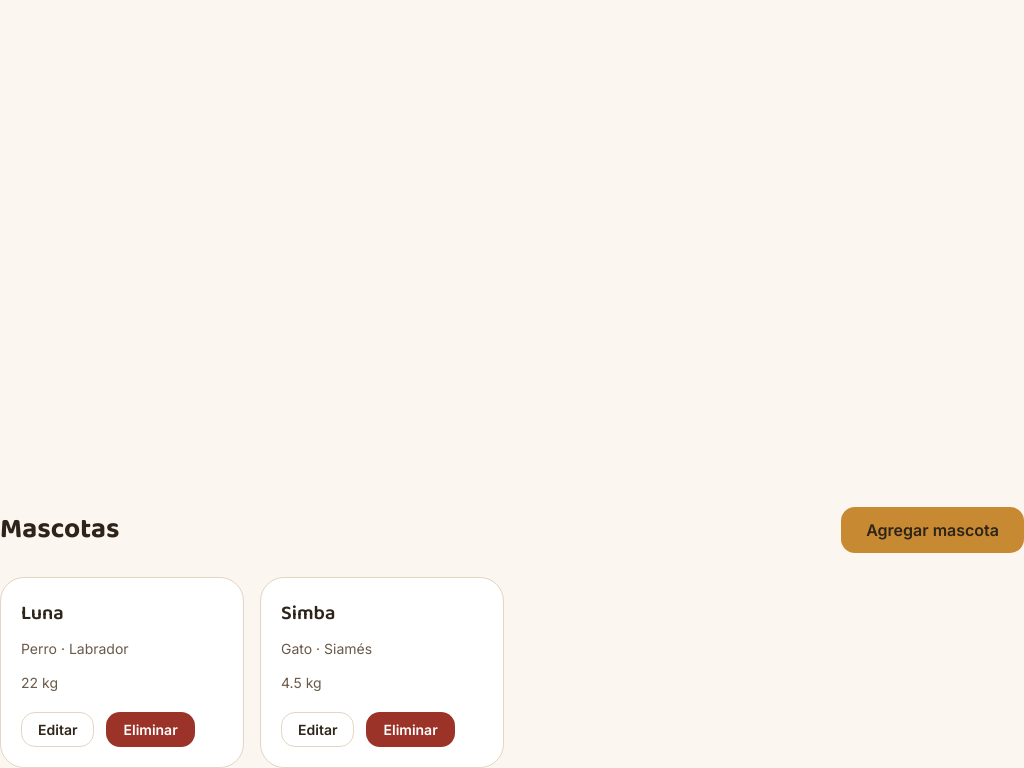
Scenario: MascotasPage › agrega una mascota nueva y la muestra en la lista
The width and height of the screenshot is (1024, 768).
(page scrolled)
Step 1. Click the button "Agregar mascota" → (933, 530), box x1=841 y1=507 x2=1023 y2=553
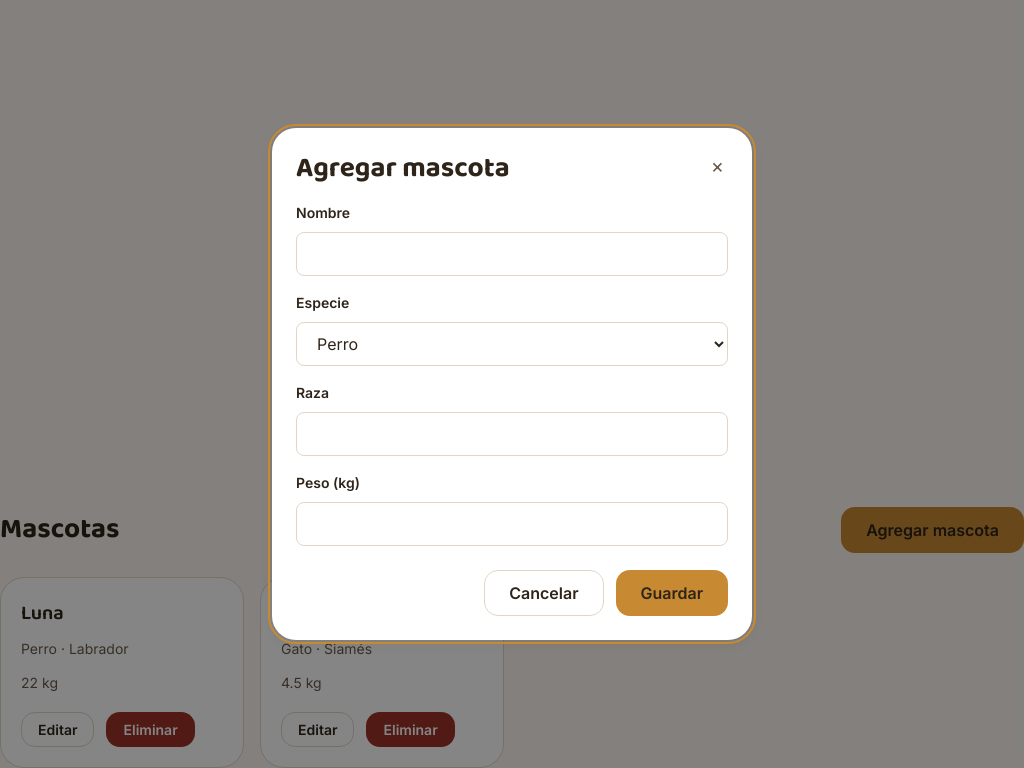
Step 2. Type "Rocky" into the field labelled "Nombre" → (512, 254), box x1=296 y1=232 x2=728 y2=276
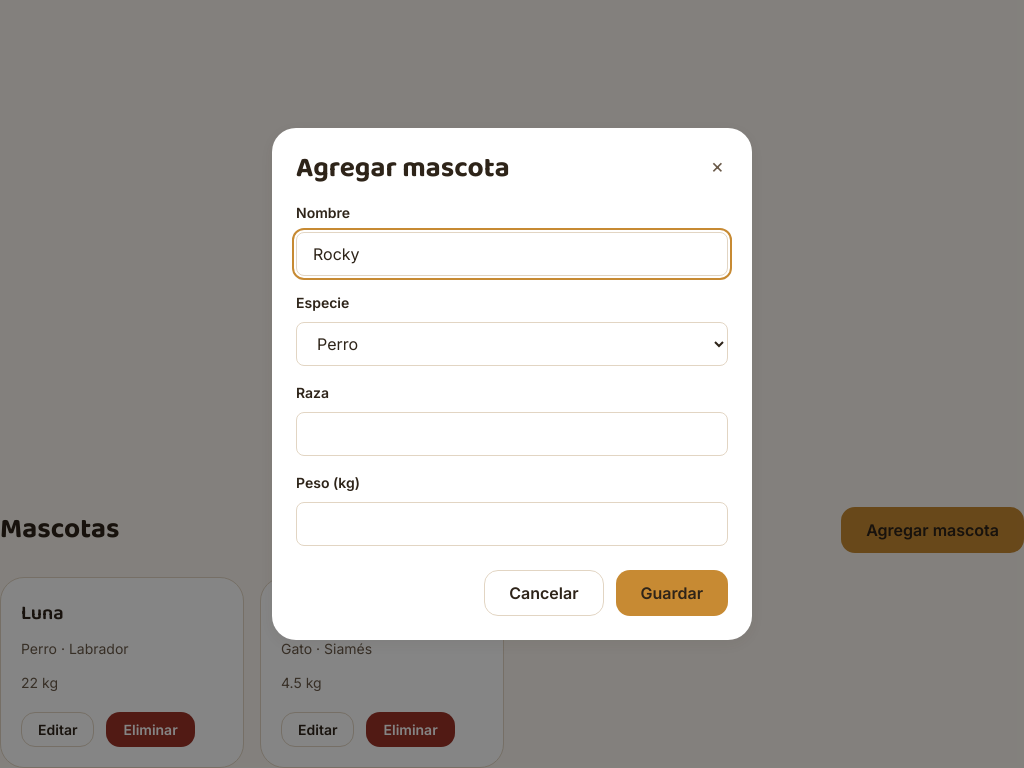
Step 3. Select "Perro" in the dropdown labelled "Especie" → (512, 344), box x1=296 y1=322 x2=728 y2=366
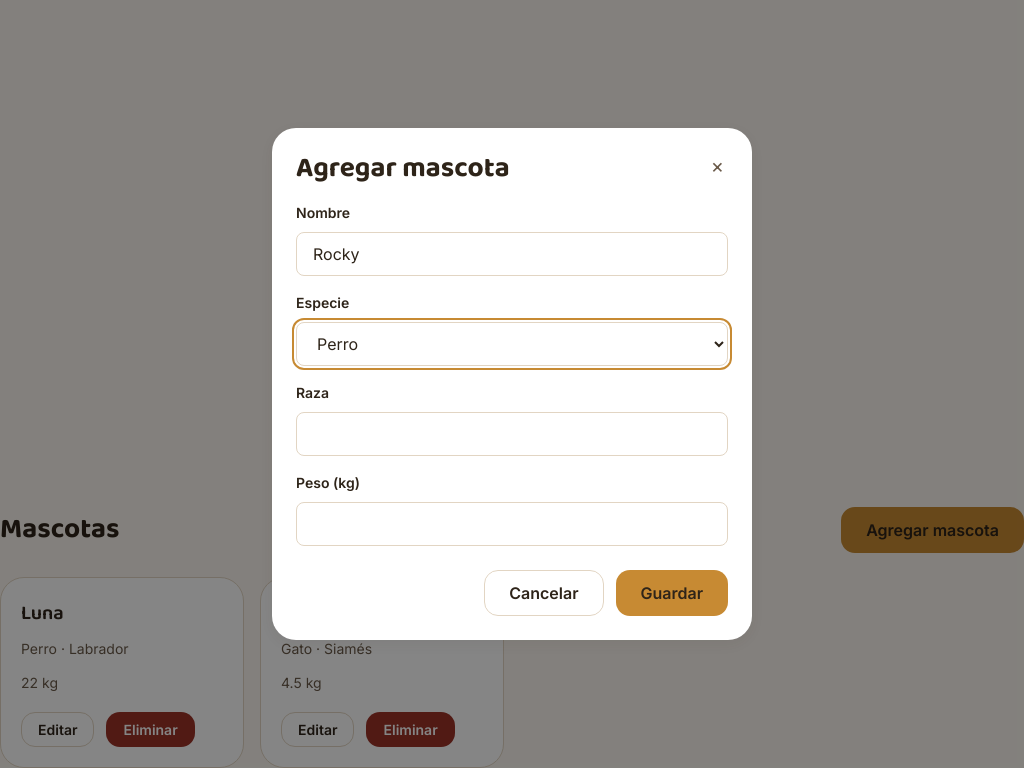
Step 4. Type "Bulldog" into the field labelled "Raza" → (512, 434), box x1=296 y1=412 x2=728 y2=456
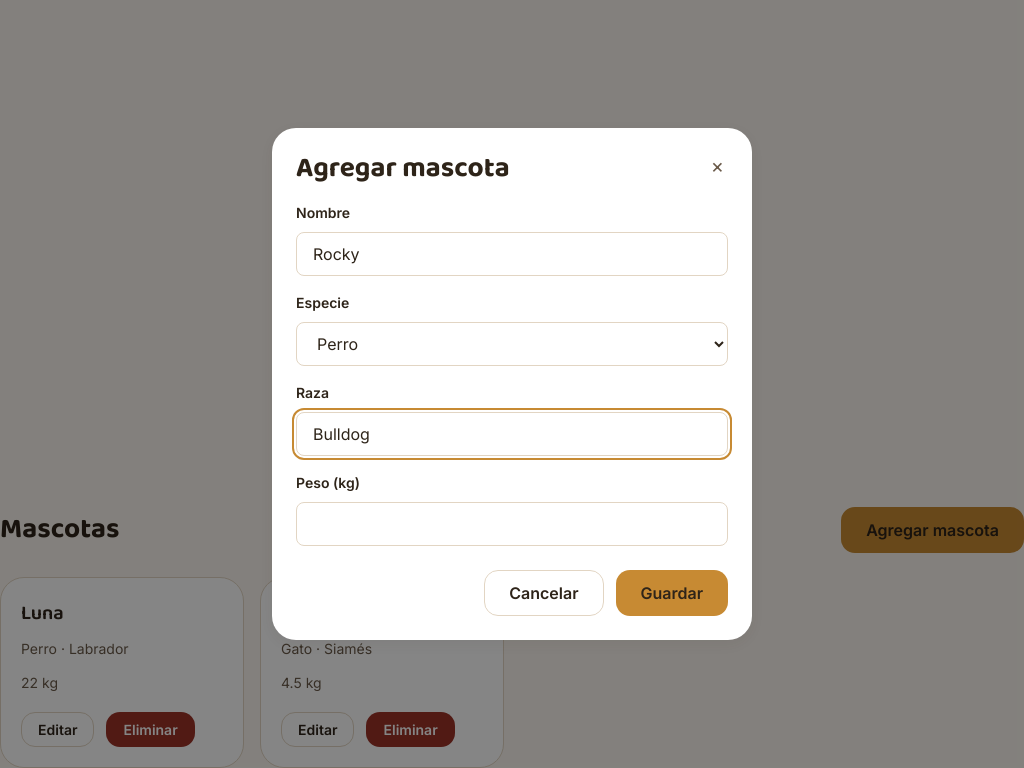
Step 5. Type "18" into the number field labelled "Peso (kg)" → (512, 524), box x1=296 y1=502 x2=728 y2=546
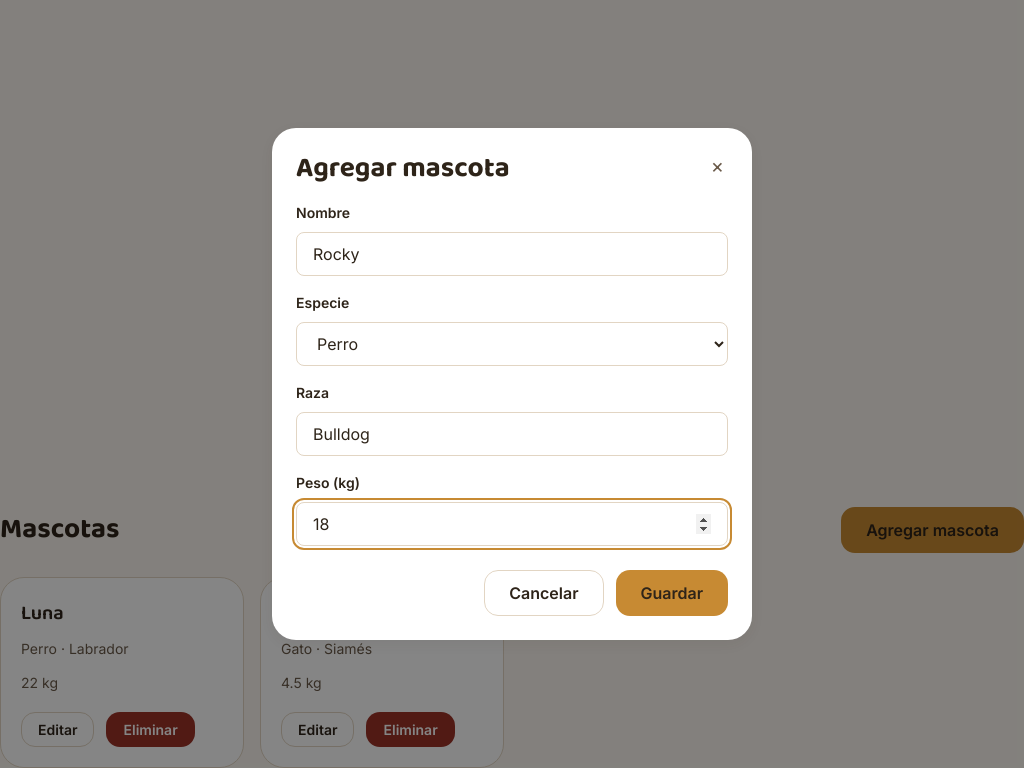
Step 6. Click the button "Guardar" → (672, 593), box x1=616 y1=570 x2=728 y2=616
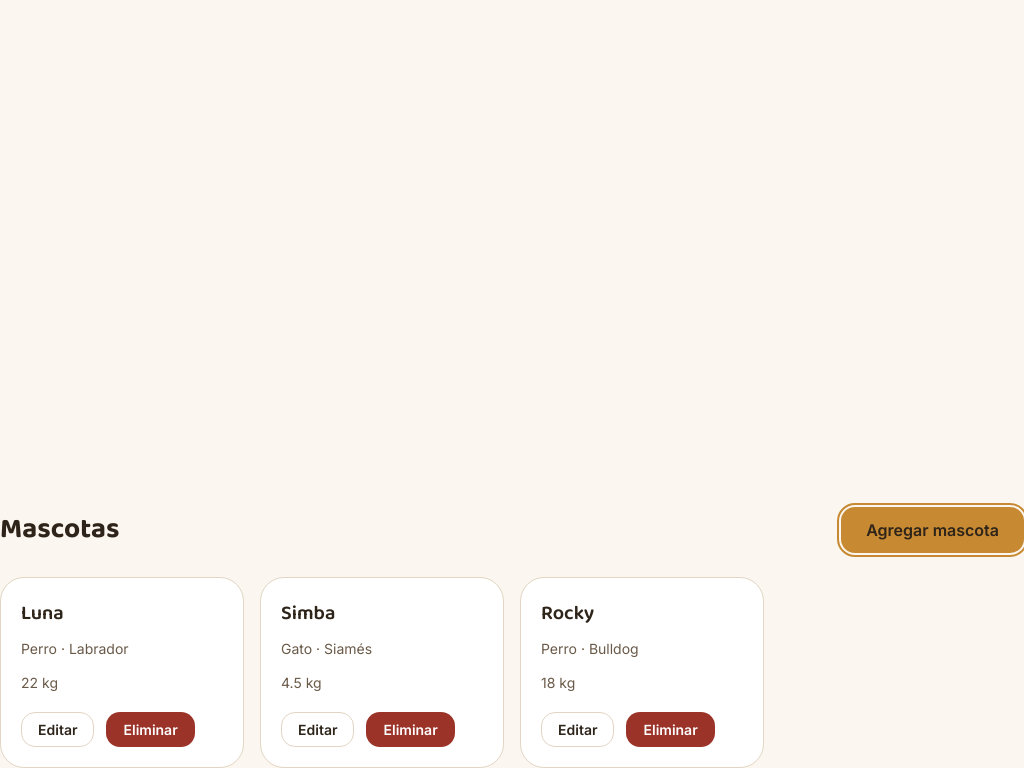
Expected: the text "Rocky" is shown, x1=541 y1=597 x2=594 y2=629
Expected: the dialog is gone
